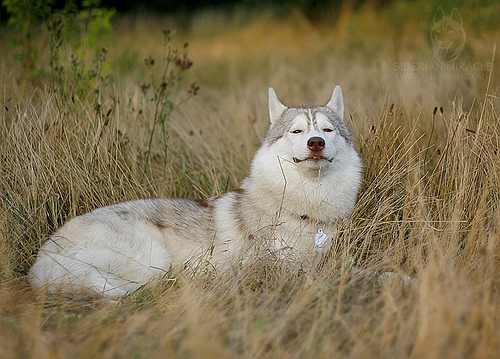dog: (28, 84, 364, 300)
